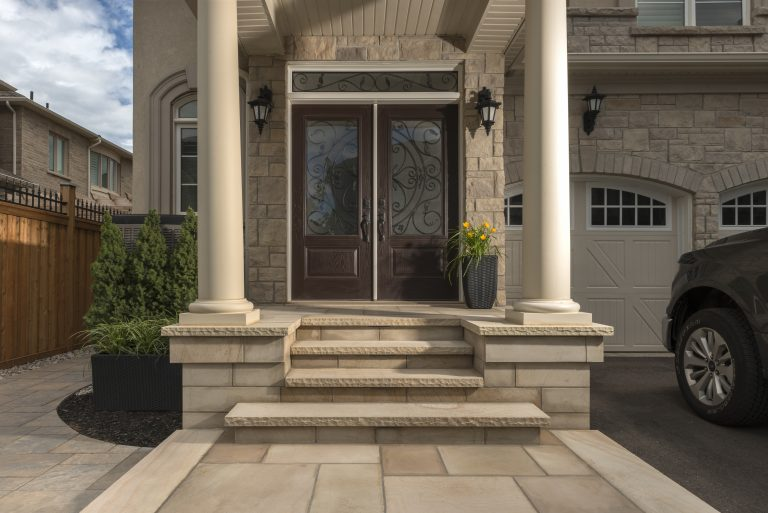upstairs: (297, 308, 464, 453)
